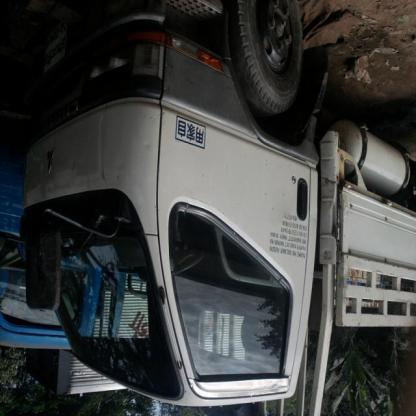truck: (24, 1, 416, 416)
